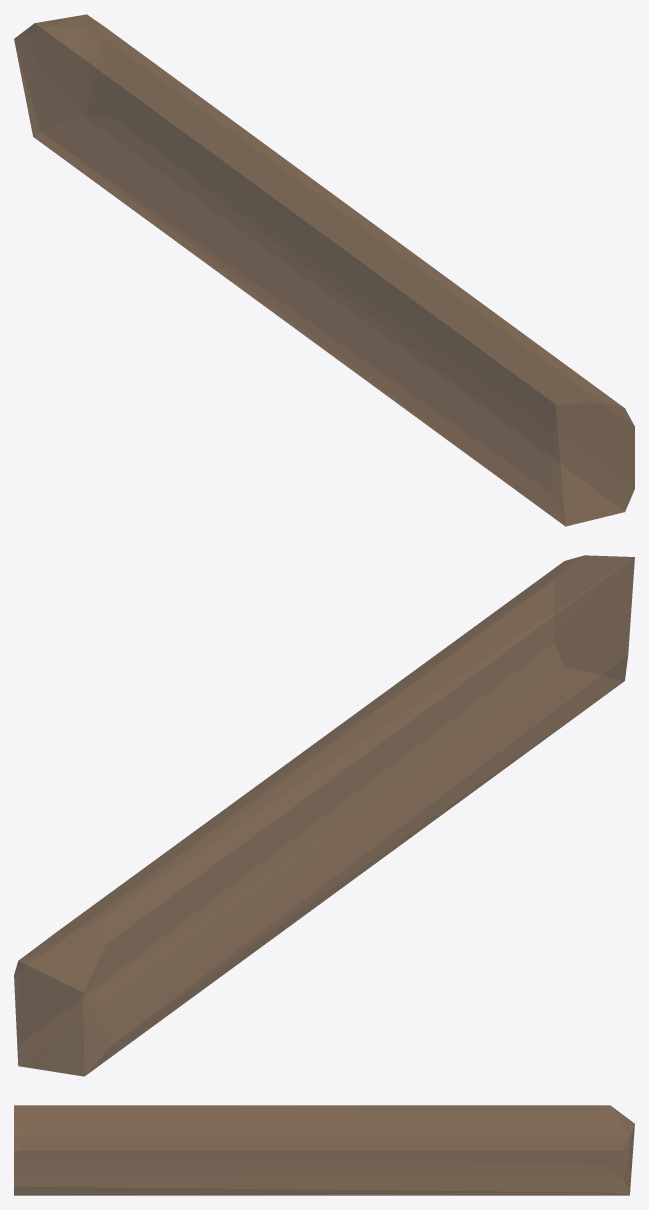
3 views of the same model, one above another, from view 1: azimuth 30°, elevation 25°; view 2: azimuth 150°, elevation 25°; view 3: azimuth 270°, elevation 25° (orthographic). The views are drawn at different scales.
Parts seen in each view (by area): view 1: Shape_IndexedFaceSet.021_Shape_IndexedFaceSet.17997; view 2: Shape_IndexedFaceSet.021_Shape_IndexedFaceSet.17997; view 3: Shape_IndexedFaceSet.021_Shape_IndexedFaceSet.17997.
Boxes of the visible parts, x1,y1,x2,y2 form: Shape_IndexedFaceSet.021_Shape_IndexedFaceSet.17997: (14,14,634,526); Shape_IndexedFaceSet.021_Shape_IndexedFaceSet.17997: (14,555,634,1076); Shape_IndexedFaceSet.021_Shape_IndexedFaceSet.17997: (14,1105,634,1195).
Bounding box in the file's own units: 0.0608 × 0.0912 × 0.7202.
